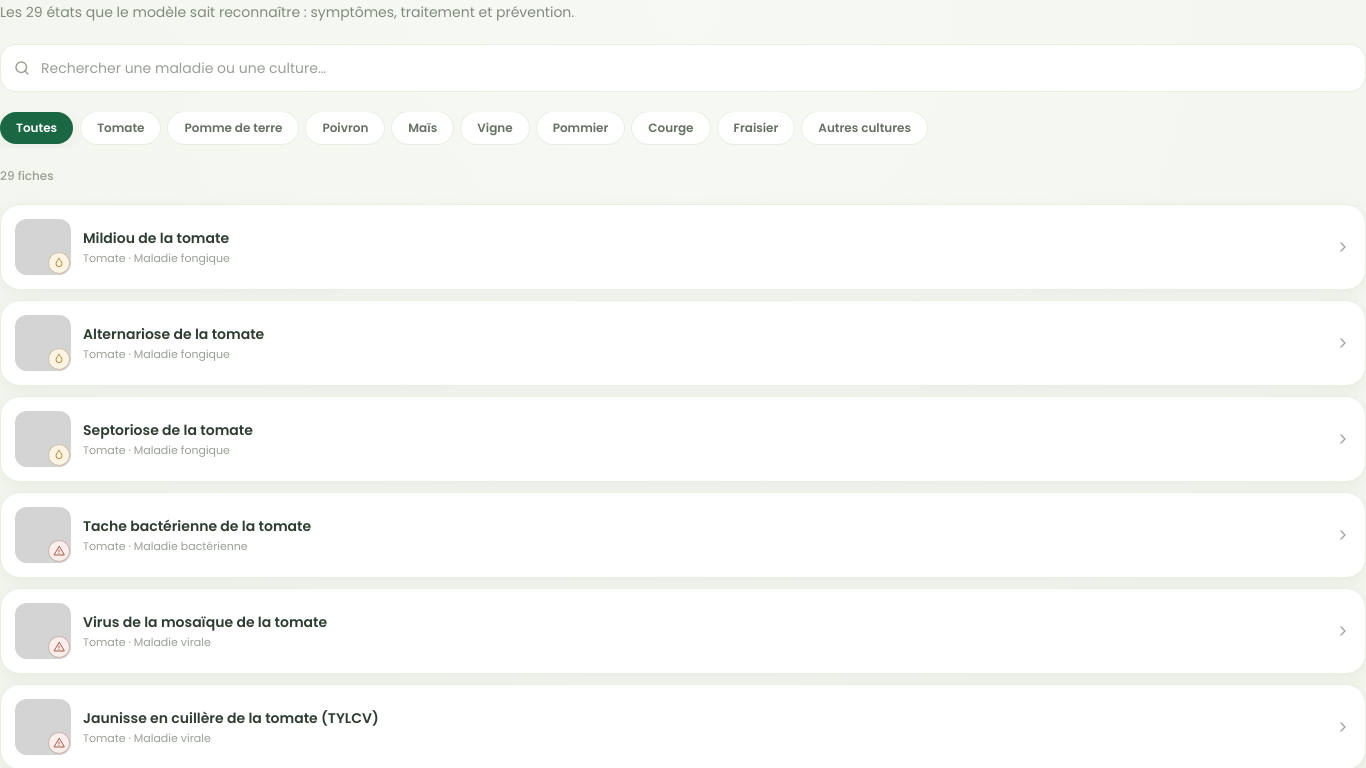
Test case: recherche par nom de maladie
The width and height of the screenshot is (1366, 768).
Type "oïdium" into the search field at (697,68), box [41,58,1353,78]
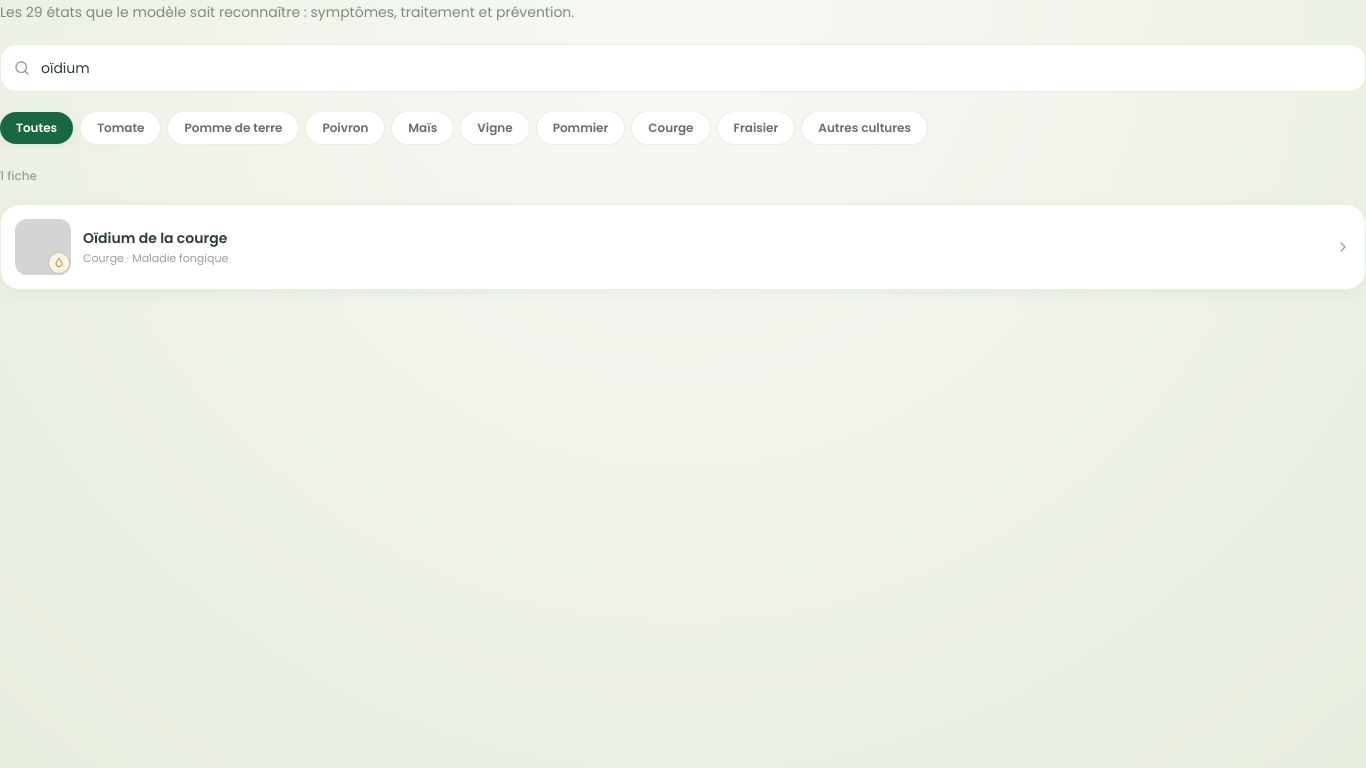
Expected: the text "Oïdium de la courge" is shown, [83,228,227,248]
Now the text "1 fiche" is shown, box [0,167,37,184]
